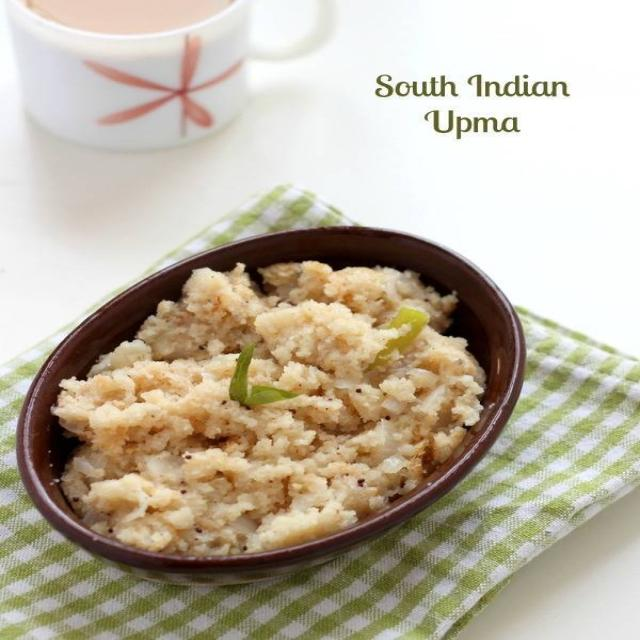upma: (35, 242, 503, 570)
